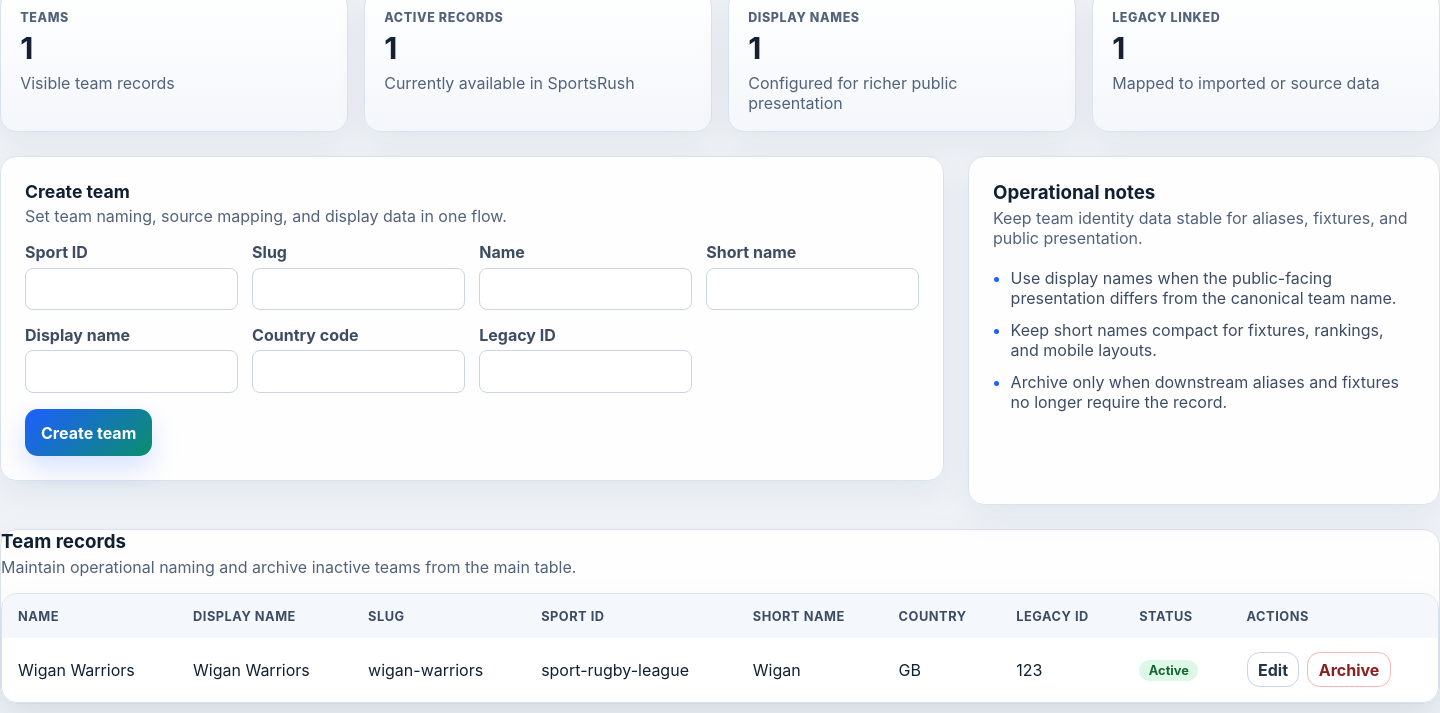
TeamsPage › edits a team and refreshes the list
Expected: the cell "wigan-warriors" is shown, 352,638 -> 525,702
Click the button "Edit". click: (1273, 670)
box: 1247,652 -> 1299,687
(page scrolled)
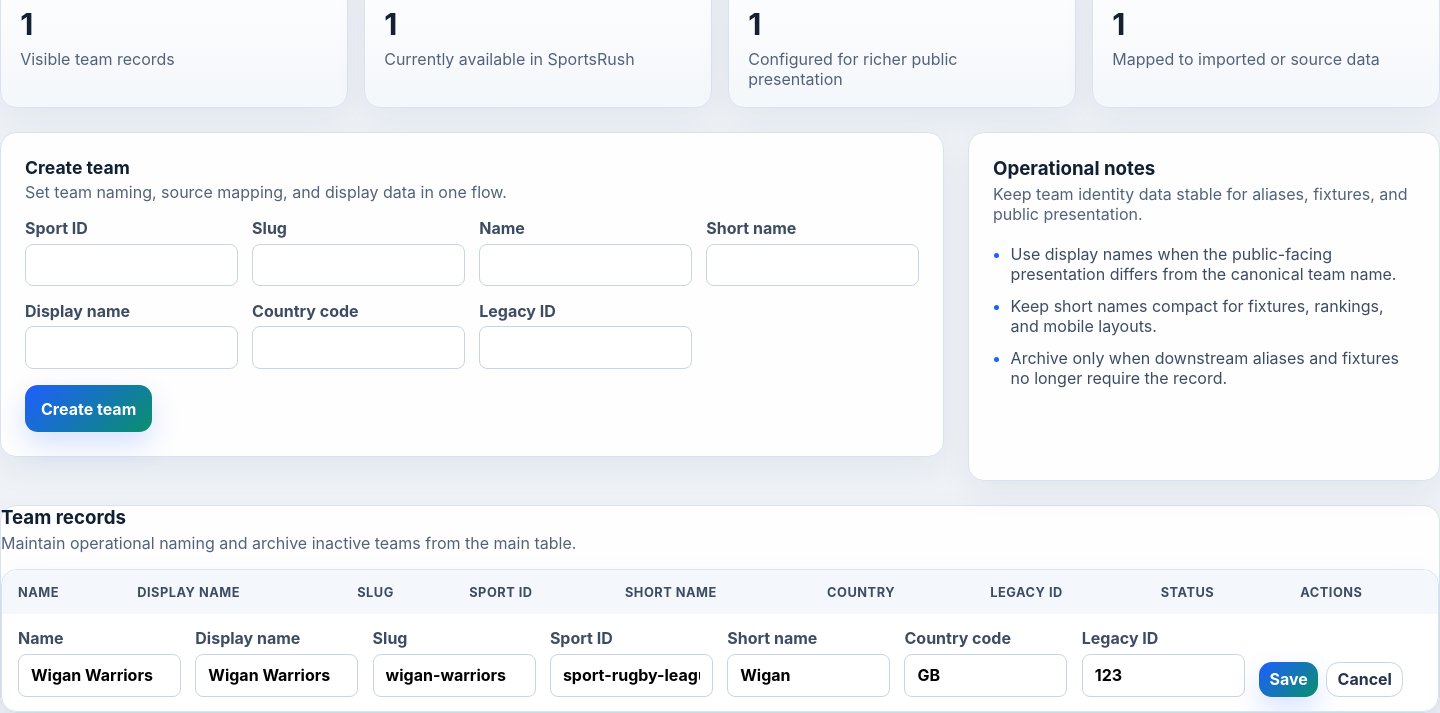
Replace the text in the field named "Edit display name" with "Wigan Warriors RLFC". click: (277, 676)
box: 195,654 -> 358,697
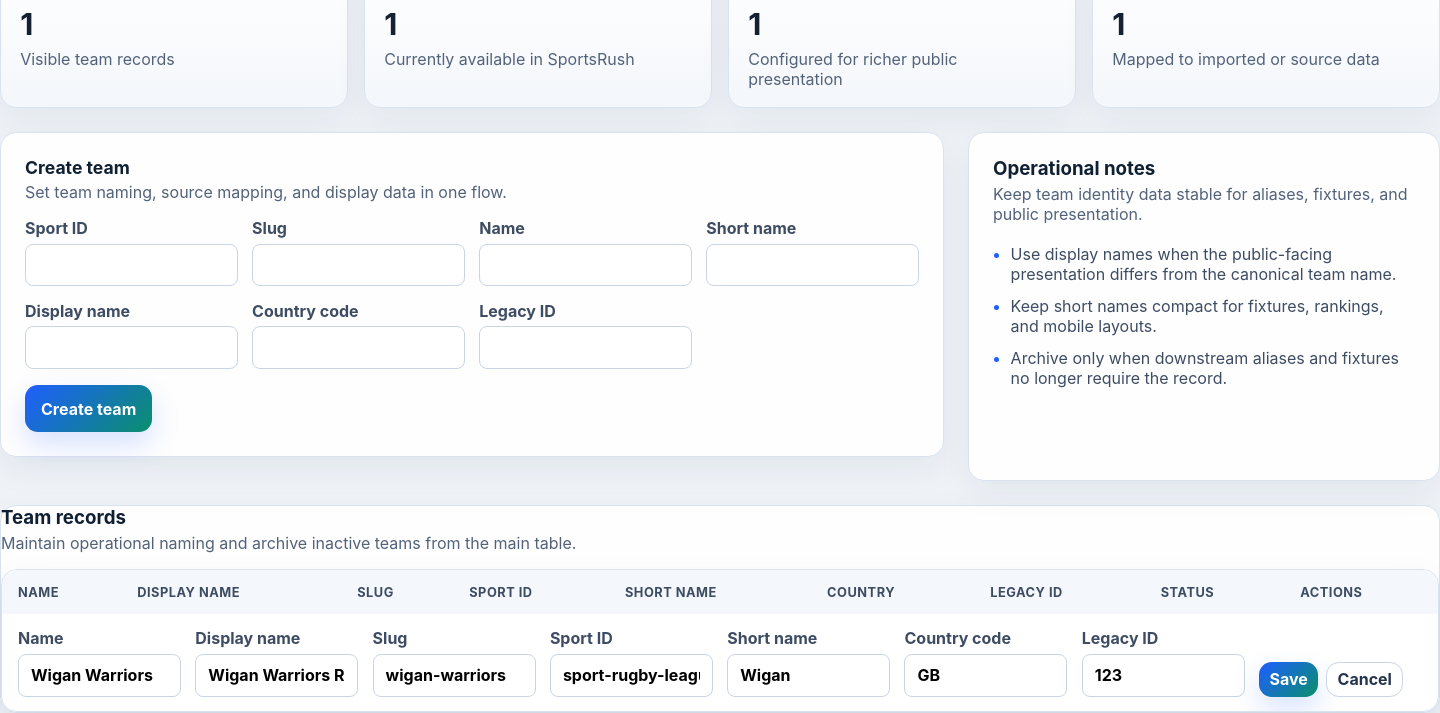
Click the button "Save". click: (1289, 680)
box: 1259,662 -> 1318,697
(page scrolled)
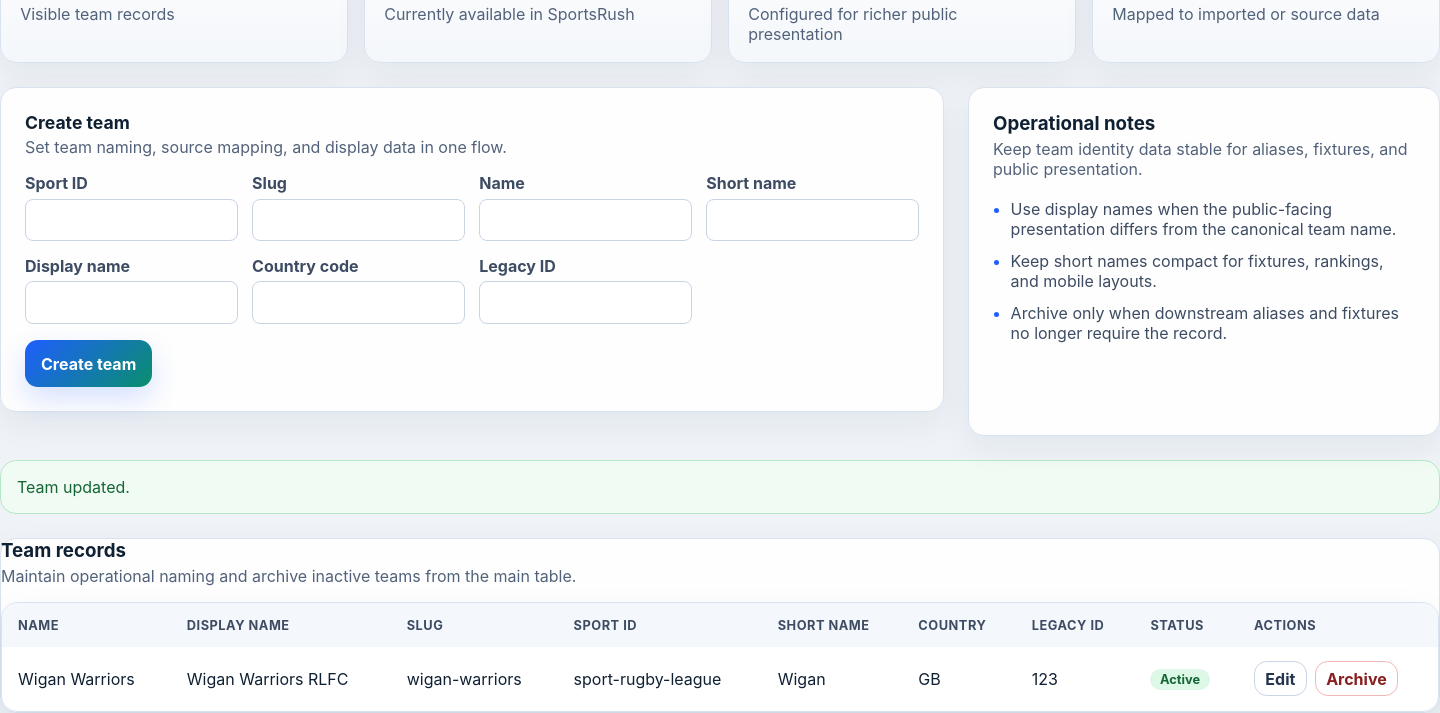
Expected: the text "Team updated." is shown, 0,460 -> 1439,514
Expected: the cell "Wigan Warriors RLFC" is shown, 171,647 -> 391,711
